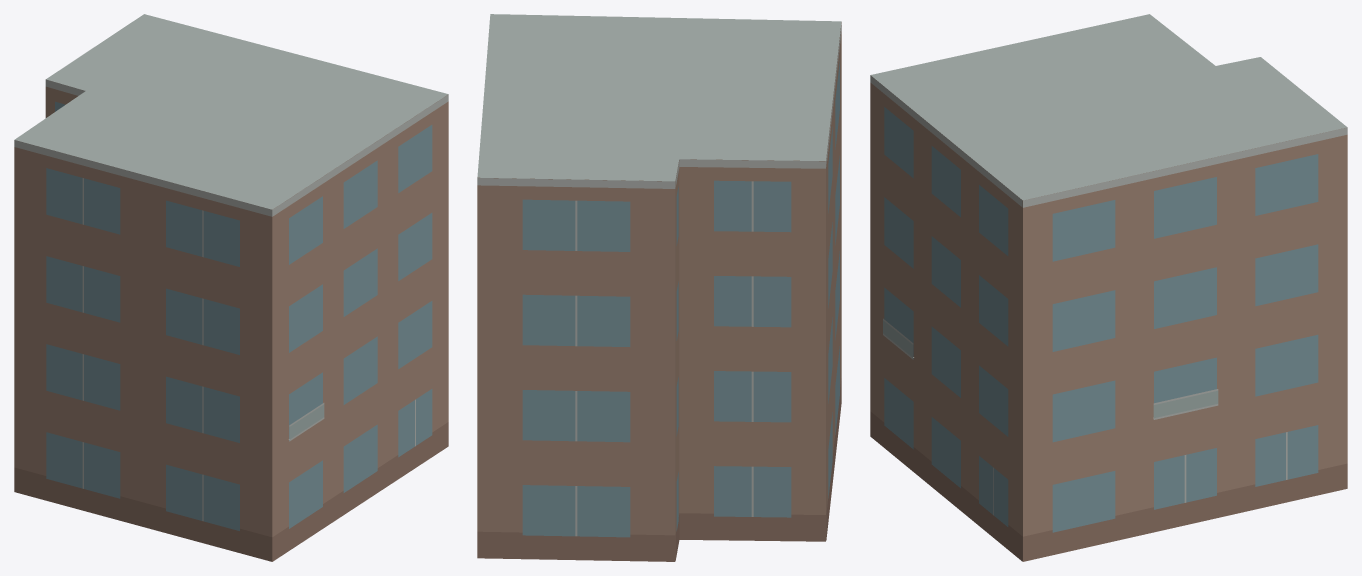
File: survey-upis-32672654.glb
3 renders of one model, left to right at view 1: azimuth 30°, elevation 25°; view 2: azimuth 150°, elevation 25°; view 3: azimuth 270°, elevation 25°, orthographic. The views are drawn at different scales.
Visible parts, largest first — view 1: survey-upis-32672654.tmp; view 2: survey-upis-32672654.tmp; view 3: survey-upis-32672654.tmp.
Boxes of the visible parts, x1,y1,x2,y2 form: survey-upis-32672654.tmp: (14,14,448,561); survey-upis-32672654.tmp: (477,14,841,561); survey-upis-32672654.tmp: (870,14,1347,561).
Bounding box in the file's own units: 13.37 × 12.07 × 14.46.
